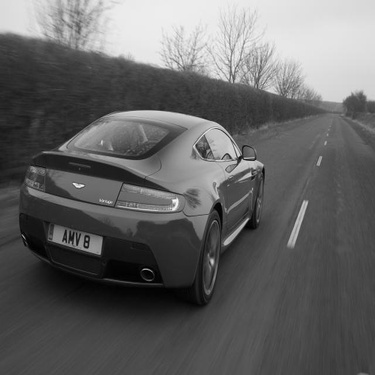car: (17, 91, 266, 308)
